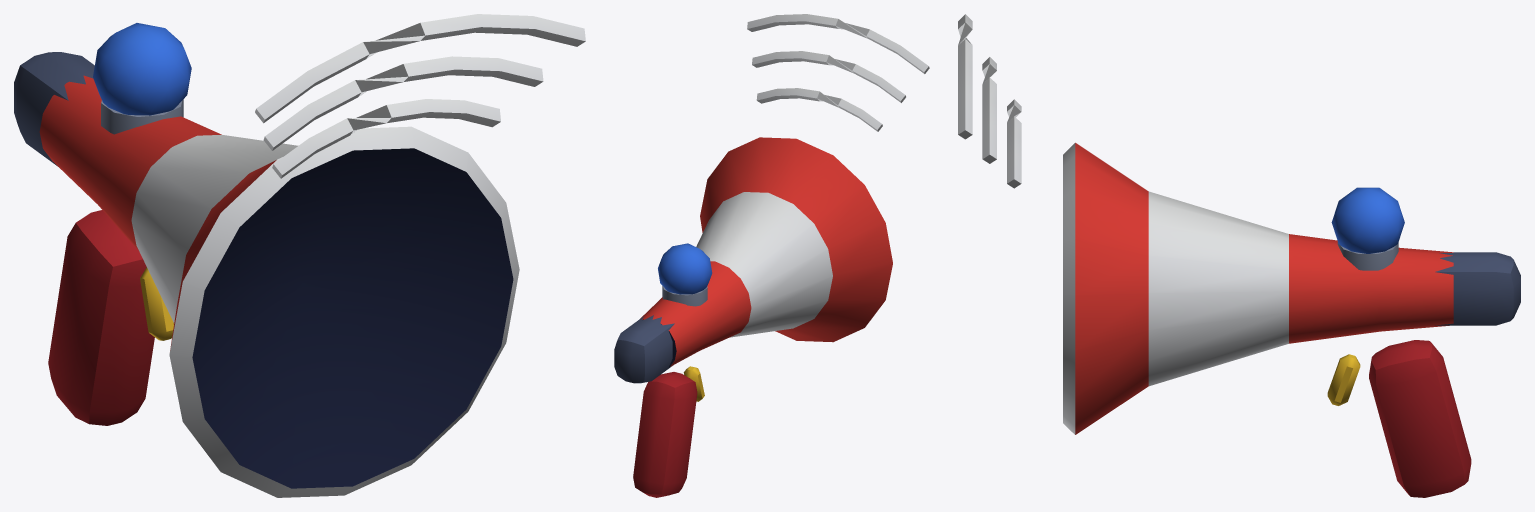
Rendered from w_m_siren.glb.
3 views of the same model, side by side, from view 1: azimuth 30°, elevation 25°; view 2: azimuth 150°, elevation 25°; view 3: azimuth 270°, elevation 25° (orthographic). The views are drawn at different scales.
Parts seen in each view (by area): view 1: body; view 2: body; view 3: body.
Boxes of the visible parts, x1,y1,x2,y2 form: body: (14,14,585,497); body: (614,14,929,497); body: (958,14,1520,497).
Bounding box in the file's own units: 0.288 × 0.4941 × 0.5532.
